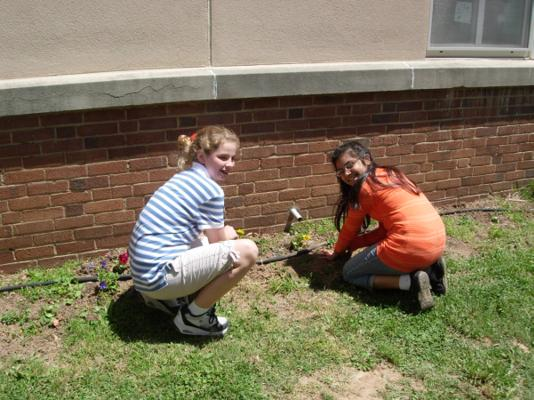person: (128, 126, 258, 340)
